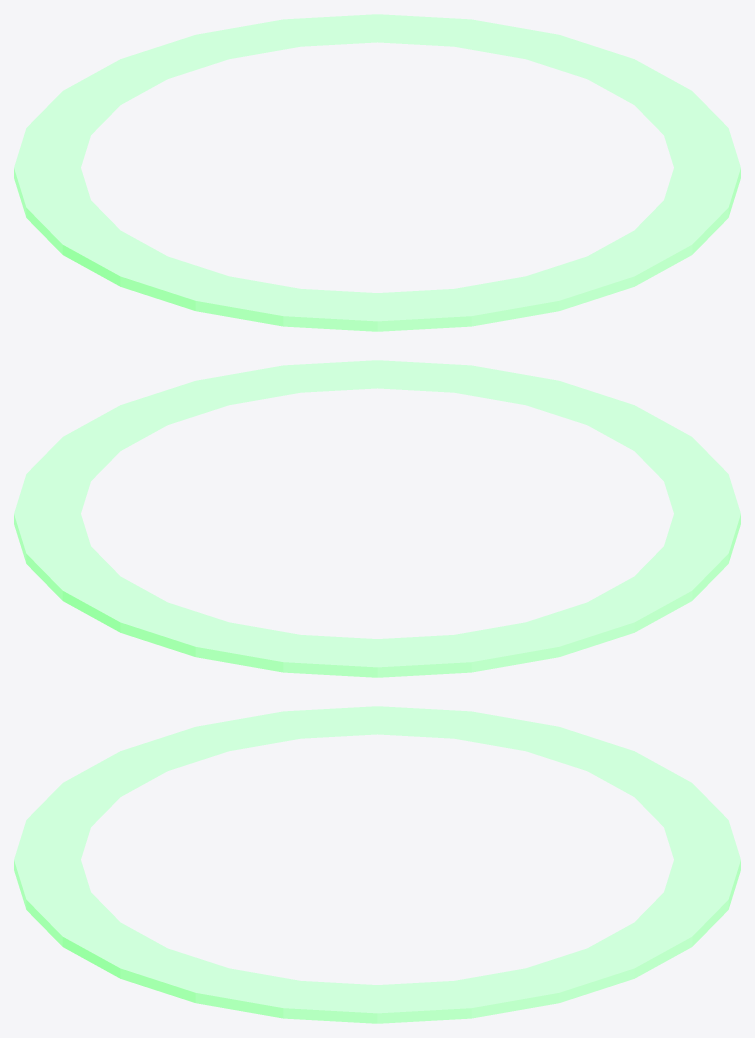
File: status_ring.glb
The picture shows the model from 3 angles, top to bottom: view 1: azimuth 30°, elevation 25°; view 2: azimuth 150°, elevation 25°; view 3: azimuth 270°, elevation 25°; orthographic projection.
Parts seen in each view (by area): view 1: status_ring; view 2: status_ring; view 3: status_ring.
Boxes of the visible parts, box(x1,y1,x2,y2) form: status_ring: box(14, 14, 740, 331); status_ring: box(14, 360, 740, 677); status_ring: box(14, 706, 740, 1023).
Bounding box in the file's own units: 0.76 × 0.012 × 0.76.
